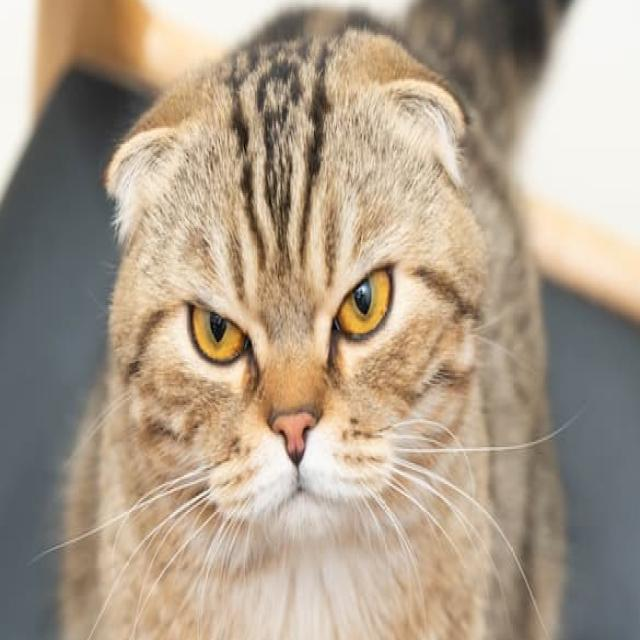Scottish Fold: (55, 0, 570, 640)
